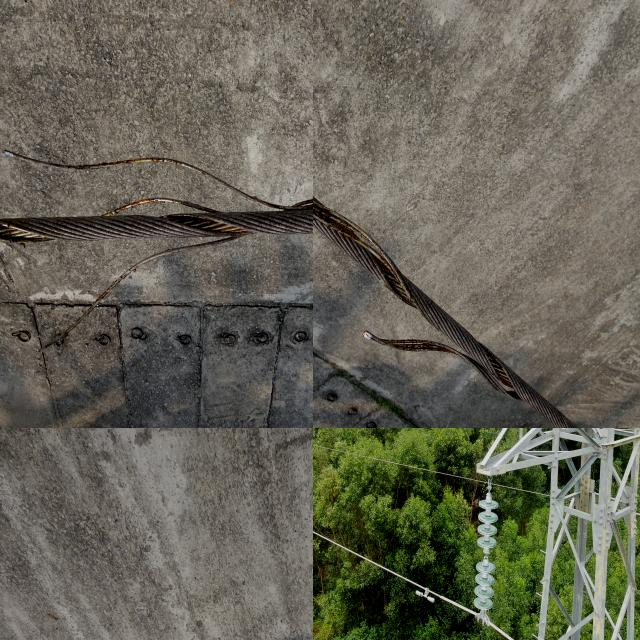杆塔: (466, 428, 640, 640)
正常绝缘子: (474, 480, 499, 626)
电缆破损: (313, 0, 529, 212), (65, 55, 313, 226), (109, 510, 313, 620)
绝缘子破损: (483, 550, 490, 561)
